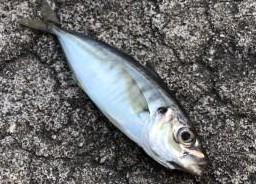fish: (18, 0, 212, 178)
